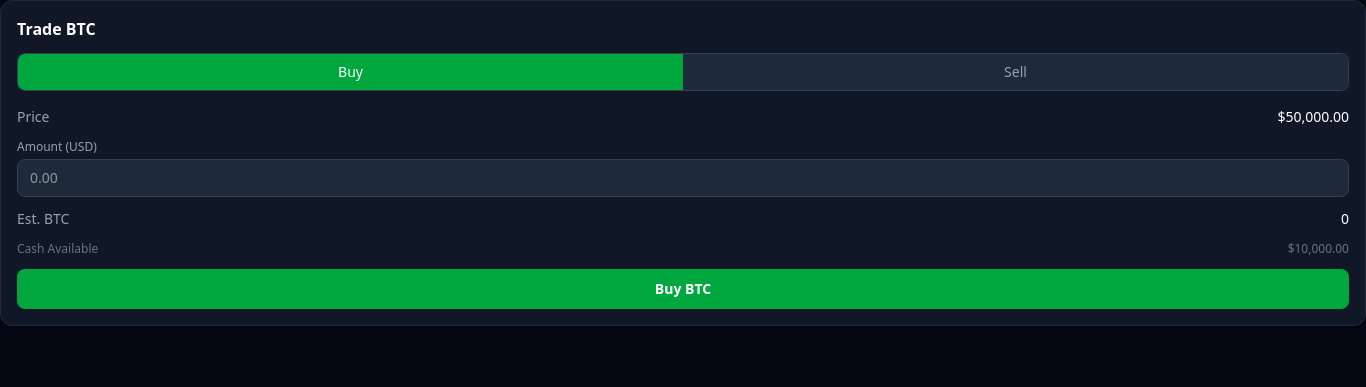
Test: OrderForm › executes a buy trade successfully
The width and height of the screenshot is (1366, 387).
In the number field with placeholder "0.00": (683, 178) [17,159,1349,197], type "1000"
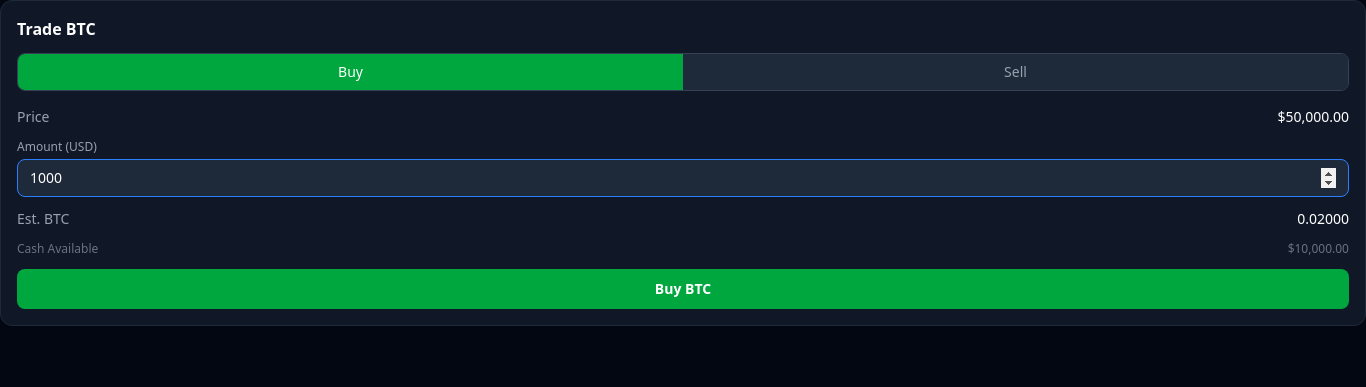
Click the button "Buy BTC": (683, 289) [17,269,1349,309]
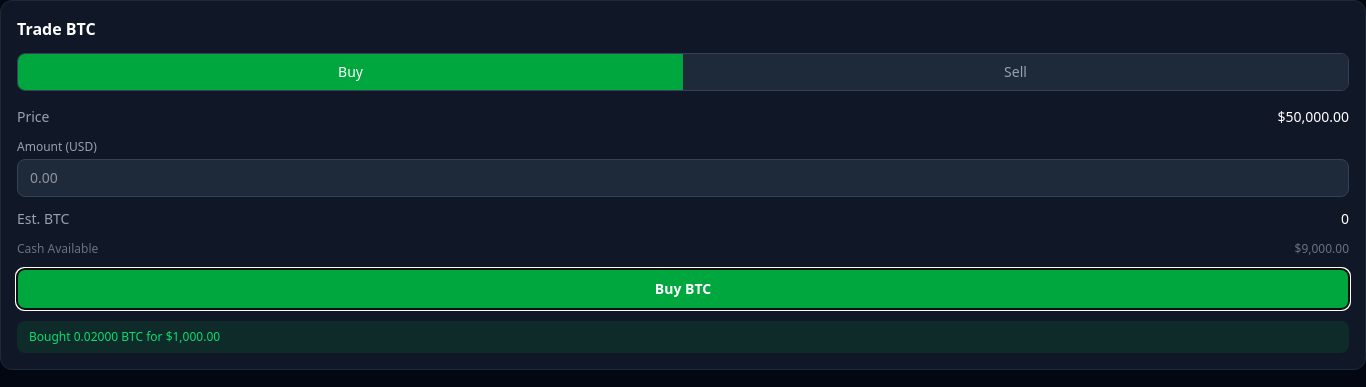
Check: the text "Bought 0.02000 BTC for $1,000.00" is shown, box [17,321,1349,353]
